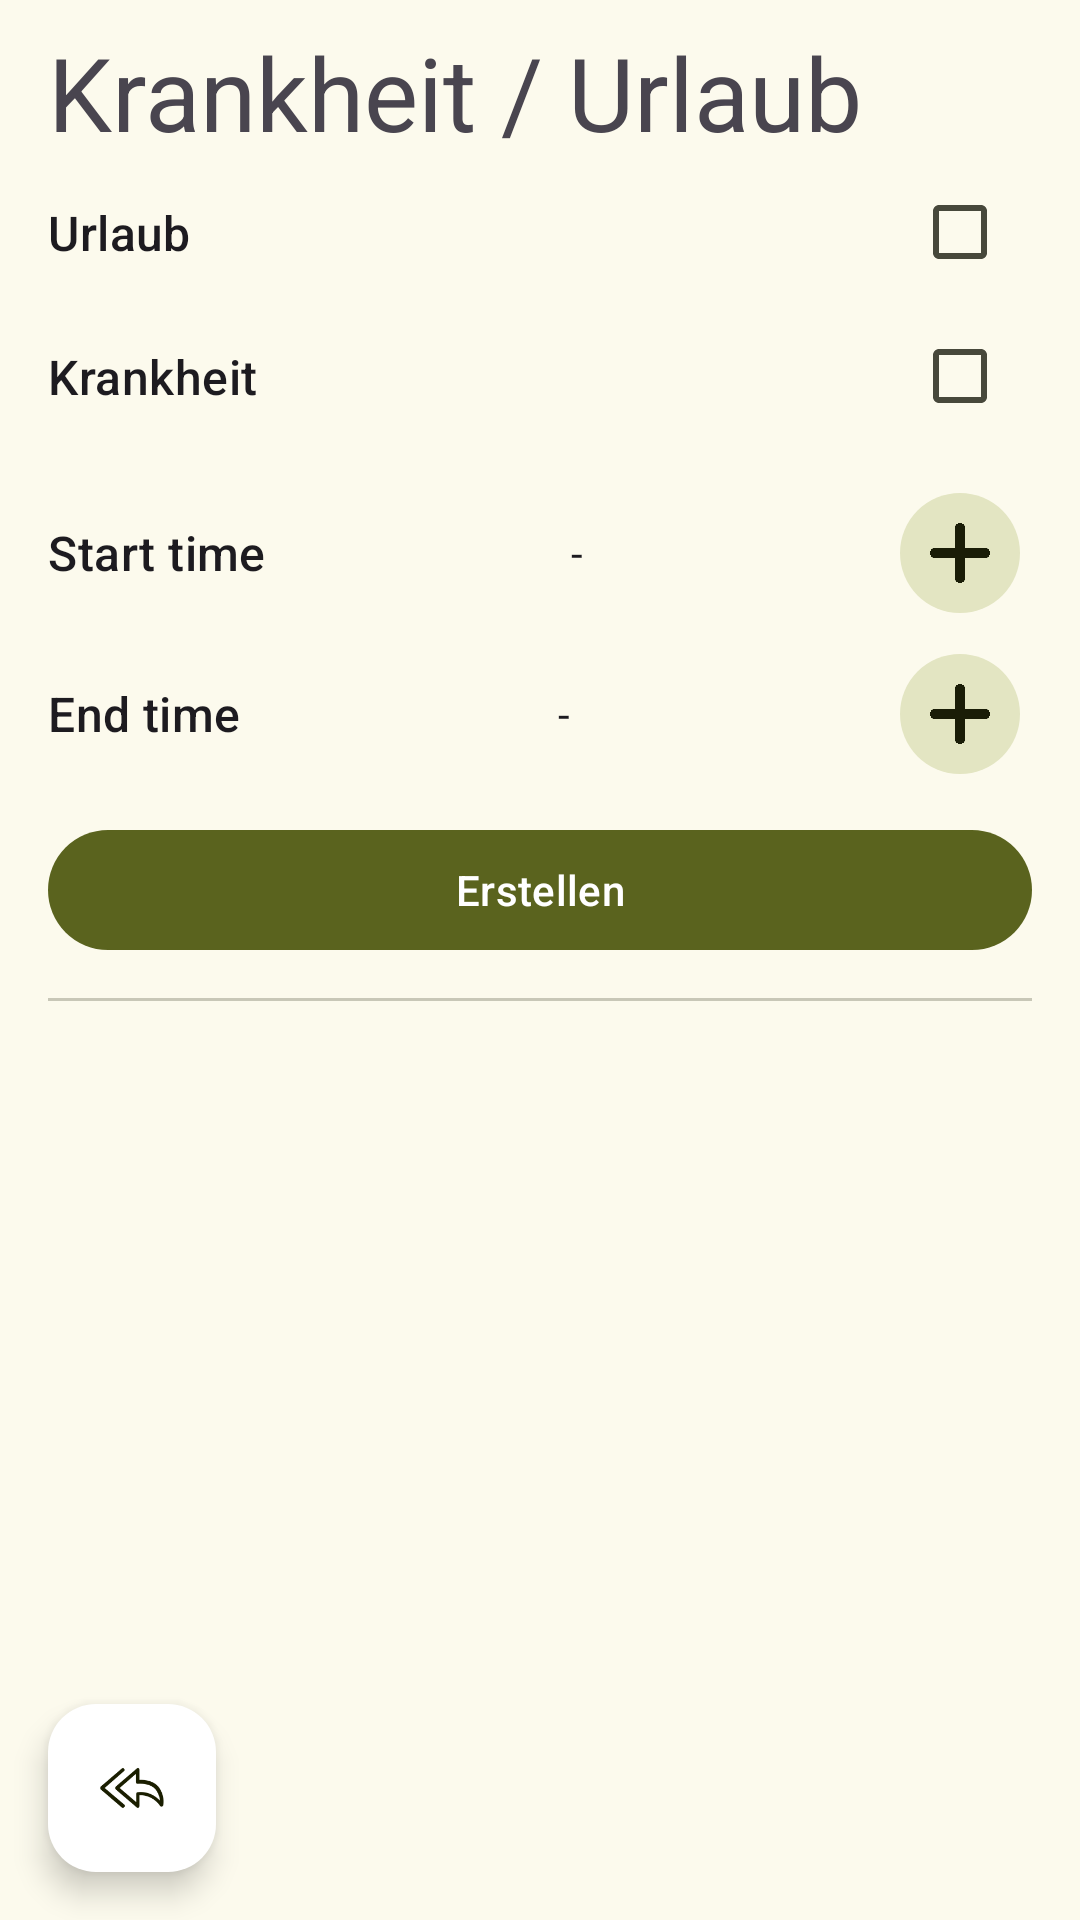

Point at icon controls on the screen. Image size 1080×1920, points as point (x, y).
Back: point (132, 1788)
plus: point (960, 553), point (960, 714)
